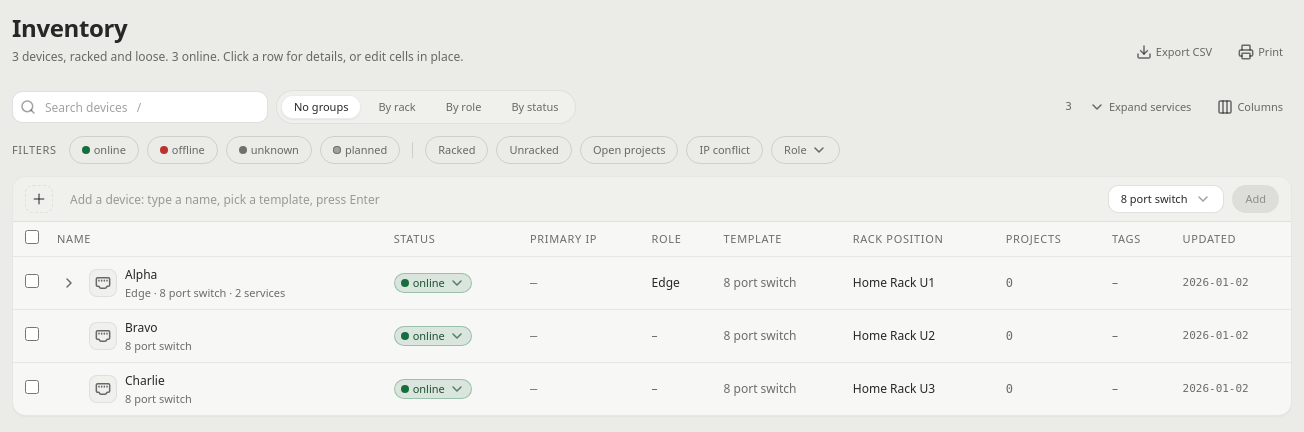
Scenario: Inventory services › searching for a service shows and expands its host
The width and height of the screenshot is (1304, 432).
Expected: the button named "services on Alpha" is shown, x1=57 y1=271 x2=81 y2=295
Type "jelly" into the search field labelled "Search devices". click: (140, 107)
box: x1=12 y1=91 x2=268 y2=123
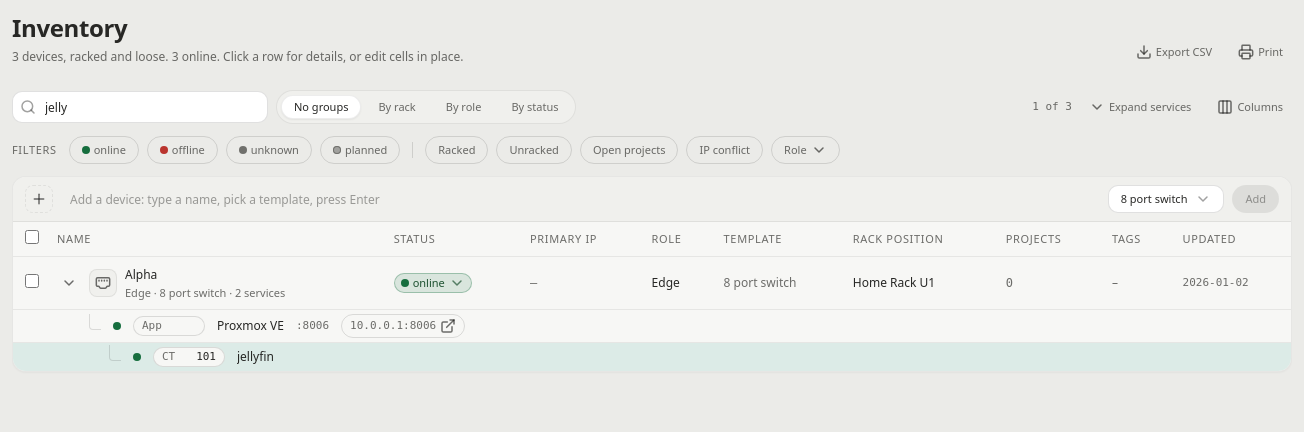
Expected: the button with aria-label "Open jellyfin in the device panel" is shown, x1=237 y1=348 x2=274 y2=366
Expected: the button "Bravo" is gone
